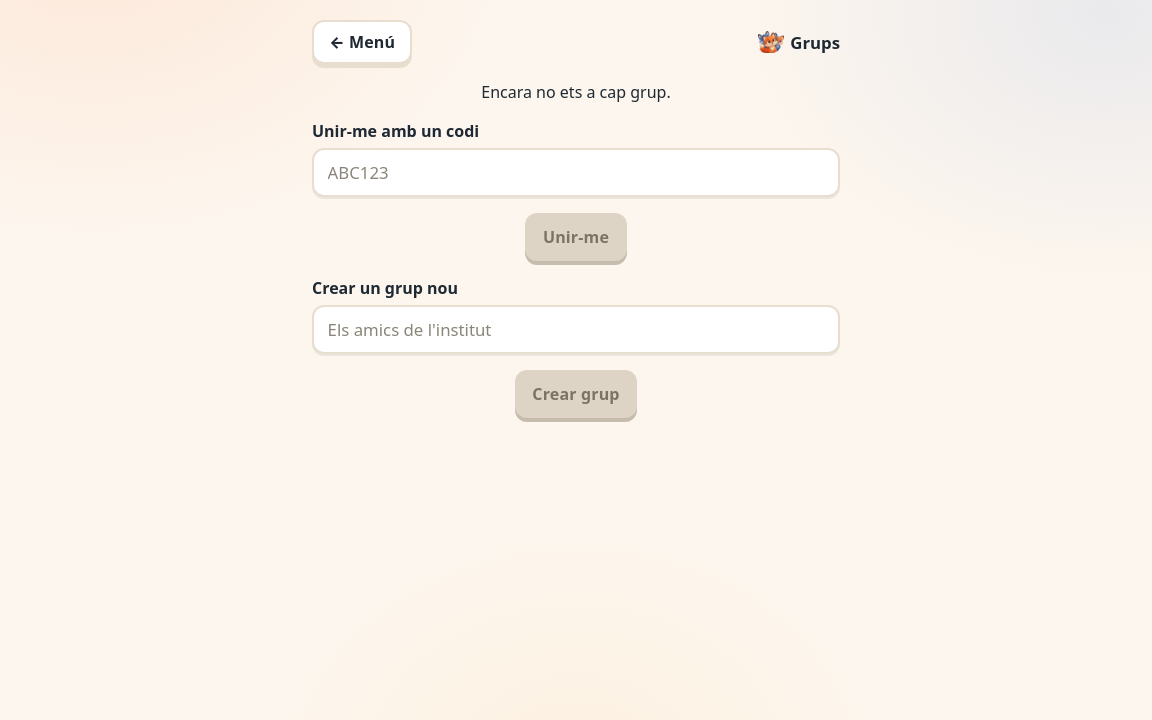
Scenario: GroupsScreen component › mostra missatges d'error quan fallen les operacions de grups
The image size is (1152, 720).
Type "Grup Nou" into the field labelled "Crear un grup nou". click: (576, 329)
box: 312,305 -> 840,354
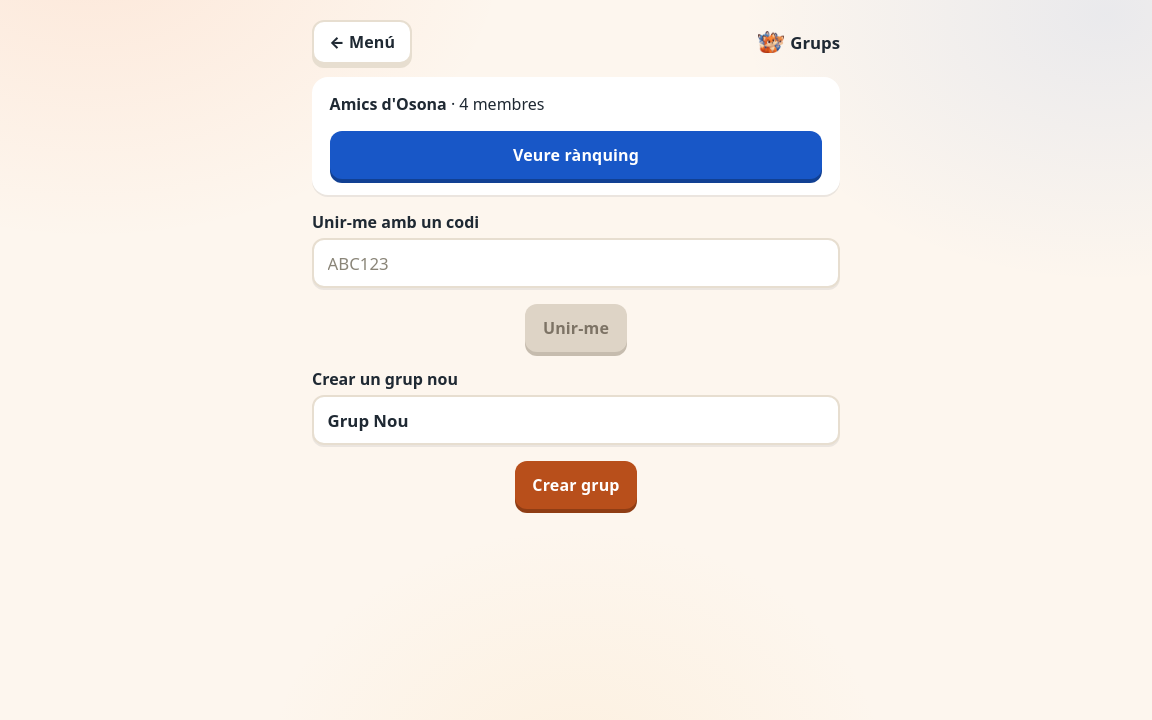
Submit the form labelled "Crear un grup nou", box 312,368 -> 840,509
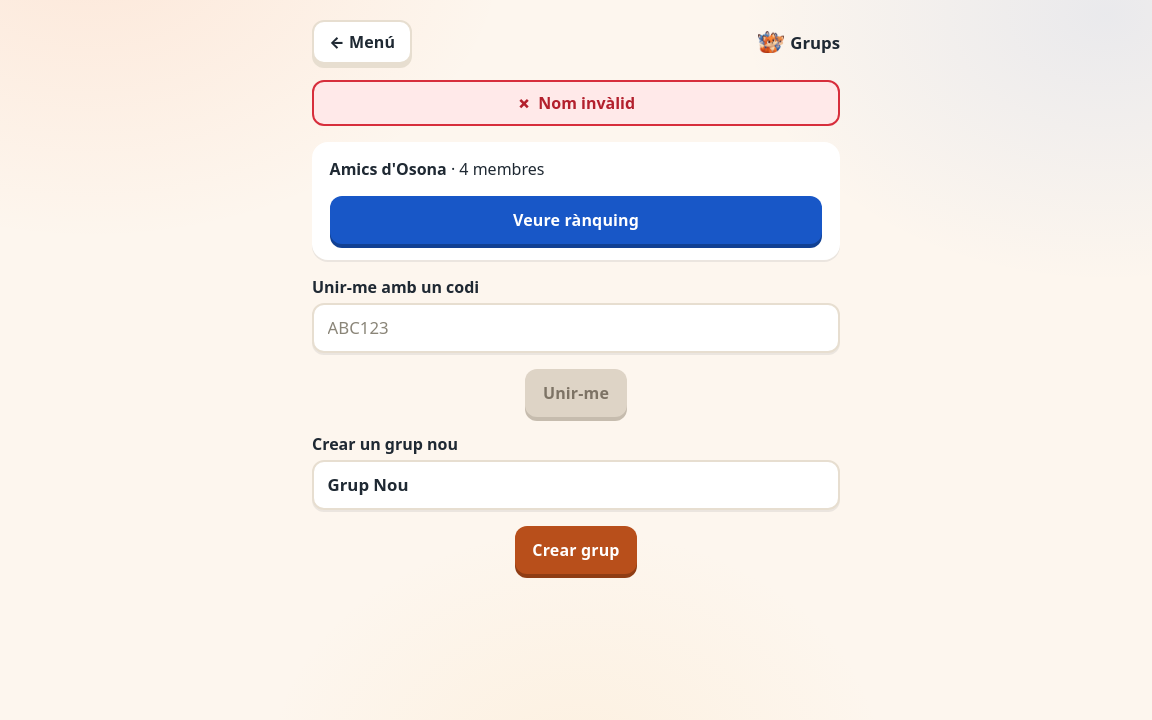
Expected: the text "Nom invàlid" is shown, 312,80 -> 840,126
Type "OSO123" into the field labelled "Unir-me amb un codi". click: (576, 328)
box: 312,303 -> 840,353
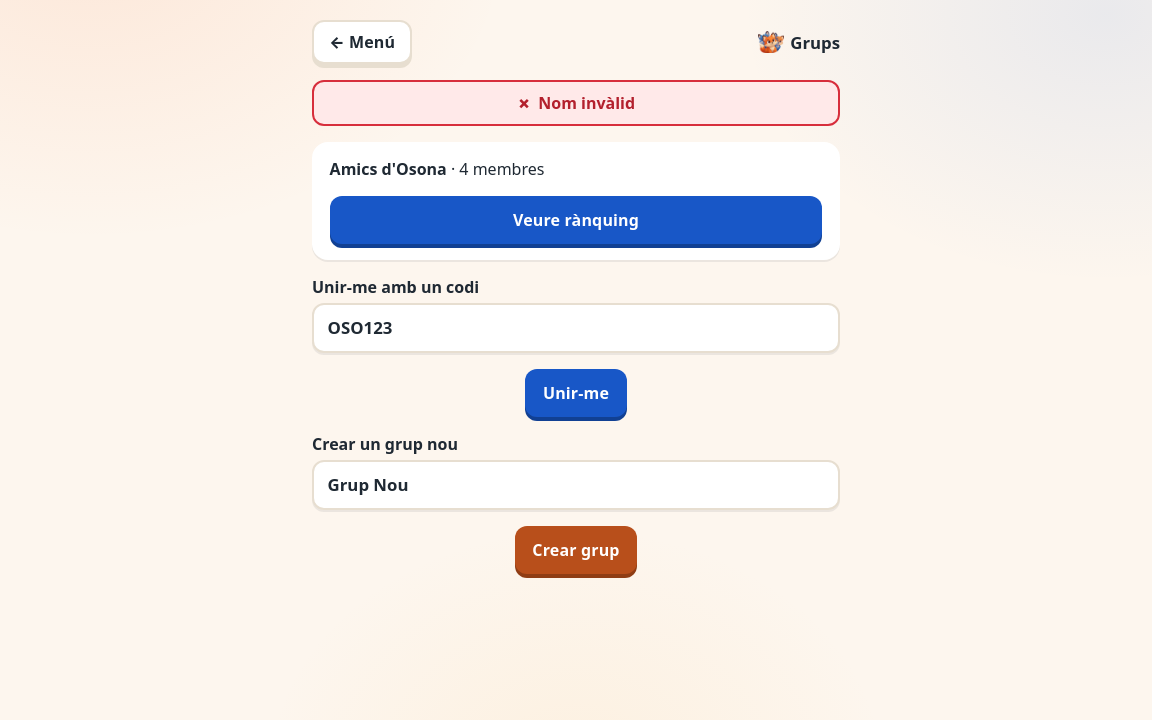
Submit the form labelled "Unir-me amb un codi", box 312,276 -> 840,417
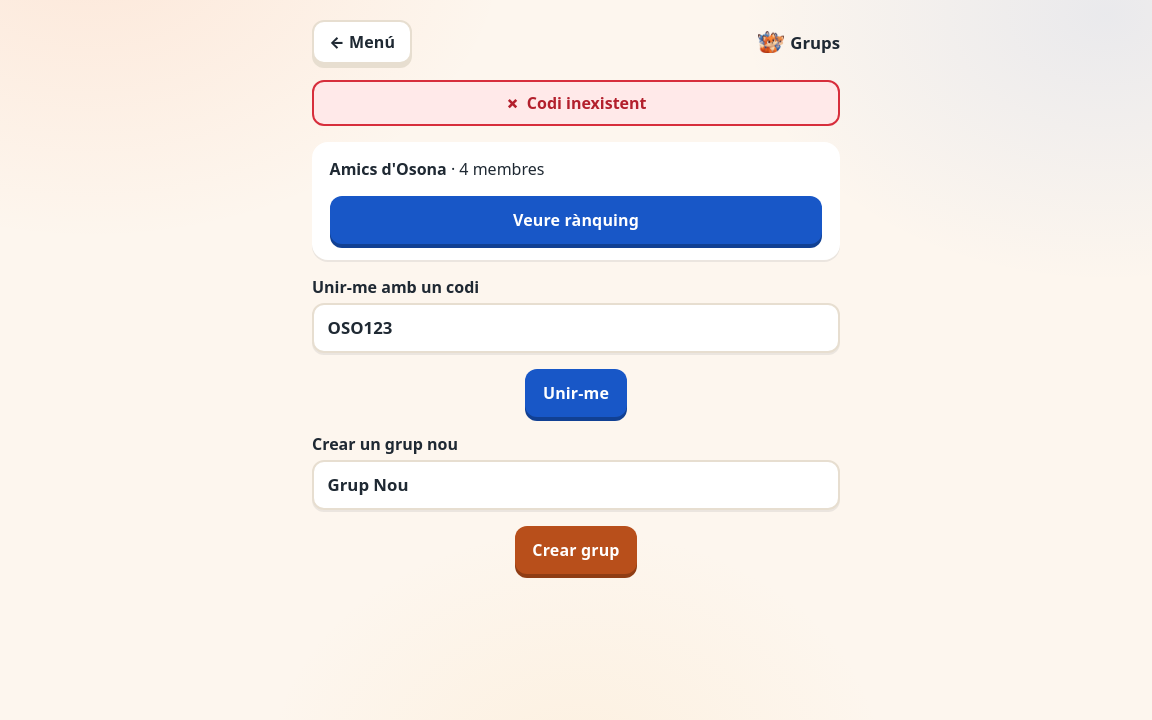
Expected: the text "Codi inexistent" is shown, 312,80 -> 840,126
Click the button "Veure rànquing". click: (576, 220)
box: 330,196 -> 822,244
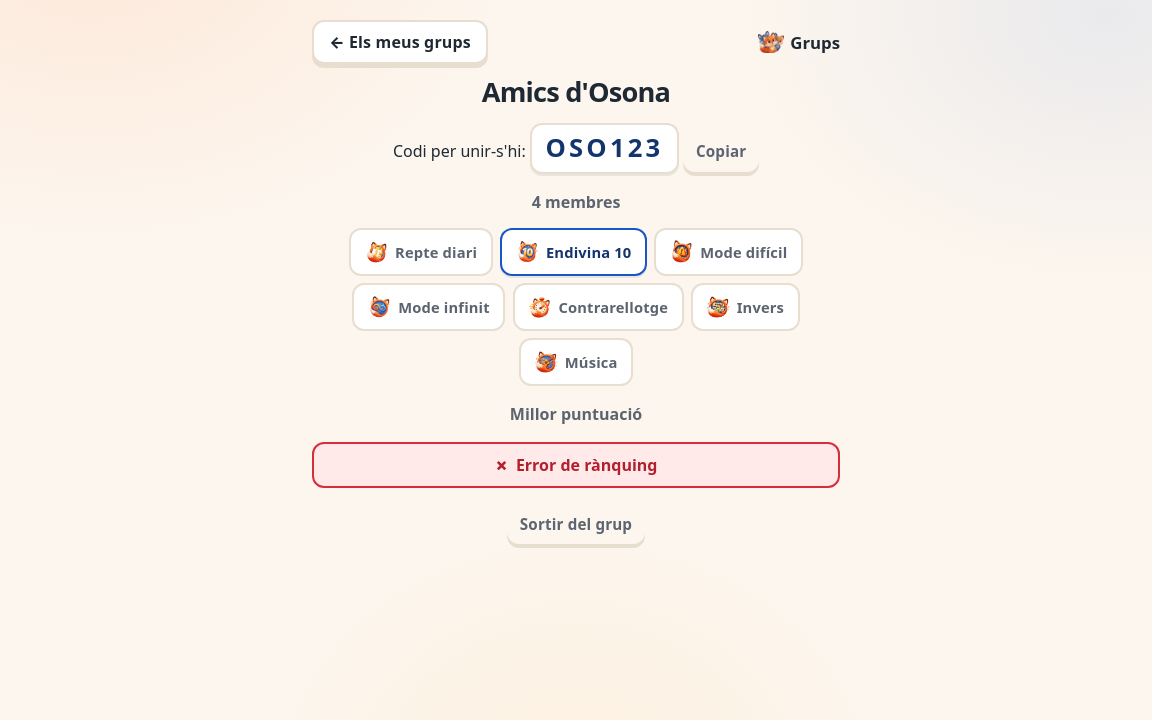
Expected: the text "Error de rànquing" is shown, 312,442 -> 840,488
Click the button "Sortir del grup". click: (576, 524)
box: 507,504 -> 645,544
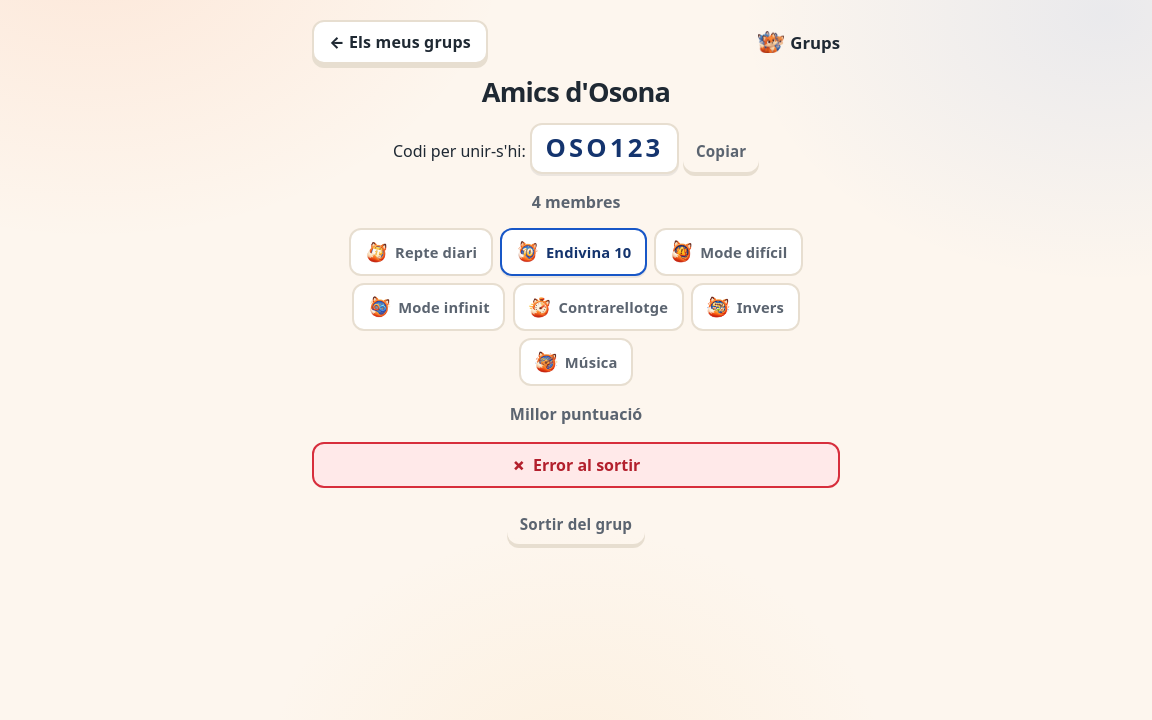
Expected: the text "Error al sortir" is shown, 312,442 -> 840,488
